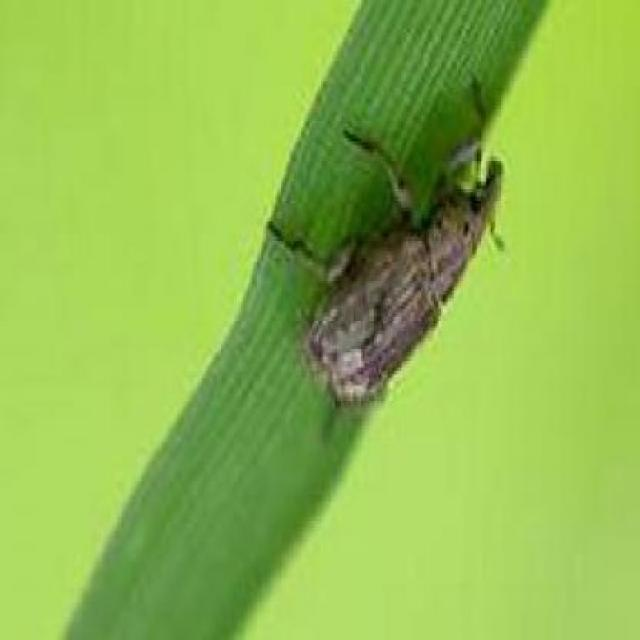rice-bug: (260, 137, 508, 411)
